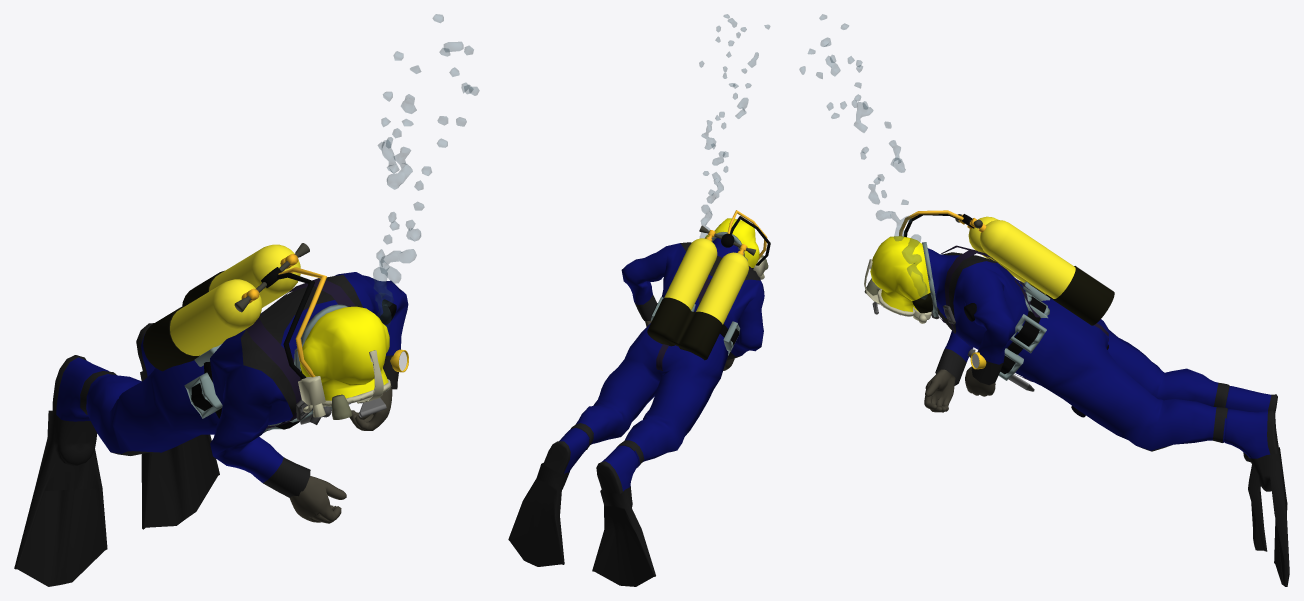
Rendered from Diver.obj.
3 views of the same model, side by side, from view 1: azimuth 30°, elevation 25°; view 2: azimuth 150°, elevation 25°; view 3: azimuth 270°, elevation 25° (orthographic). The views are drawn at different scales.
Parts seen in each view (by area): view 1: 3DSMesh_95_95, 3DSMesh_15_15, 3DSMesh_14_14, 3DSMesh_115_115, 3DSMesh_96_96, 3DSMesh_60_60, 3DSMesh_8_8, 3DSMesh_59_59, 3DSMesh_61_61, 3DSMesh_1_1, 3DSMesh_12_12, 3DSMesh_17_17 (+9 smaller); view 2: 3DSMesh_14_14, 3DSMesh_15_15, 3DSMesh_96_96, 3DSMesh_95_95, 3DSMesh_61_61, 3DSMesh_59_59, 3DSMesh_60_60, 3DSMesh_12_12, 3DSMesh_115_115, 3DSMesh_11_11, 3DSMesh_3_3, 3DSMesh_10_10; view 3: 3DSMesh_14_14, 3DSMesh_15_15, 3DSMesh_59_59, 3DSMesh_115_115, 3DSMesh_96_96, 3DSMesh_61_61, 3DSMesh_11_11, 3DSMesh_1_1, 3DSMesh_95_95, 3DSMesh_12_12, 3DSMesh_13_13, 3DSMesh_49_49 (+1 smaller).
Part boxes in pixels (x1=…): 3DSMesh_95_95: x1=14, y1=410, x2=107, y2=586; 3DSMesh_15_15: x1=210, y1=272, x2=408, y2=482; 3DSMesh_14_14: x1=86, y1=360, x2=218, y2=453; 3DSMesh_115_115: x1=300, y1=306, x2=389, y2=400; 3DSMesh_96_96: x1=140, y1=371, x2=219, y2=529; 3DSMesh_60_60: x1=170, y1=279, x2=262, y2=355; 3DSMesh_8_8: x1=240, y1=274, x2=363, y2=415; 3DSMesh_59_59: x1=209, y1=244, x2=300, y2=307; 3DSMesh_61_61: x1=143, y1=270, x2=224, y2=371; 3DSMesh_1_1: x1=289, y1=476, x2=346, y2=523; 3DSMesh_12_12: x1=56, y1=357, x2=109, y2=421; 3DSMesh_17_17: x1=246, y1=315, x2=301, y2=428; 3DSMesh_14_14: x1=575, y1=323, x2=728, y2=462; 3DSMesh_15_15: x1=621, y1=243, x2=764, y2=356; 3DSMesh_96_96: x1=508, y1=462, x2=569, y2=566; 3DSMesh_95_95: x1=592, y1=486, x2=655, y2=586; 3DSMesh_61_61: x1=647, y1=297, x2=722, y2=360; 3DSMesh_59_59: x1=664, y1=238, x2=717, y2=310; 3DSMesh_60_60: x1=696, y1=252, x2=748, y2=324; 3DSMesh_12_12: x1=602, y1=445, x2=640, y2=491; 3DSMesh_115_115: x1=704, y1=218, x2=759, y2=267; 3DSMesh_11_11: x1=559, y1=428, x2=589, y2=473; 3DSMesh_3_3: x1=543, y1=441, x2=570, y2=474; 3DSMesh_10_10: x1=596, y1=461, x2=622, y2=493; 3DSMesh_14_14: x1=1015, y1=298, x2=1218, y2=450; 3DSMesh_15_15: x1=944, y1=261, x2=1028, y2=364; 3DSMesh_59_59: x1=979, y1=220, x2=1075, y2=298; 3DSMesh_115_115: x1=870, y1=236, x2=930, y2=311; 3DSMesh_96_96: x1=1248, y1=447, x2=1289, y2=586; 3DSMesh_61_61: x1=1045, y1=266, x2=1114, y2=325; 3DSMesh_11_11: x1=1222, y1=409, x2=1270, y2=458; 3DSMesh_1_1: x1=924, y1=369, x2=955, y2=412; 3DSMesh_95_95: x1=1243, y1=452, x2=1267, y2=551; 3DSMesh_12_12: x1=1225, y1=386, x2=1271, y2=412; 3DSMesh_13_13: x1=927, y1=248, x2=959, y2=318; 3DSMesh_49_49: x1=902, y1=234, x2=927, y2=299.
Size of the model in its own units: 505 by 1582 by 1256.
